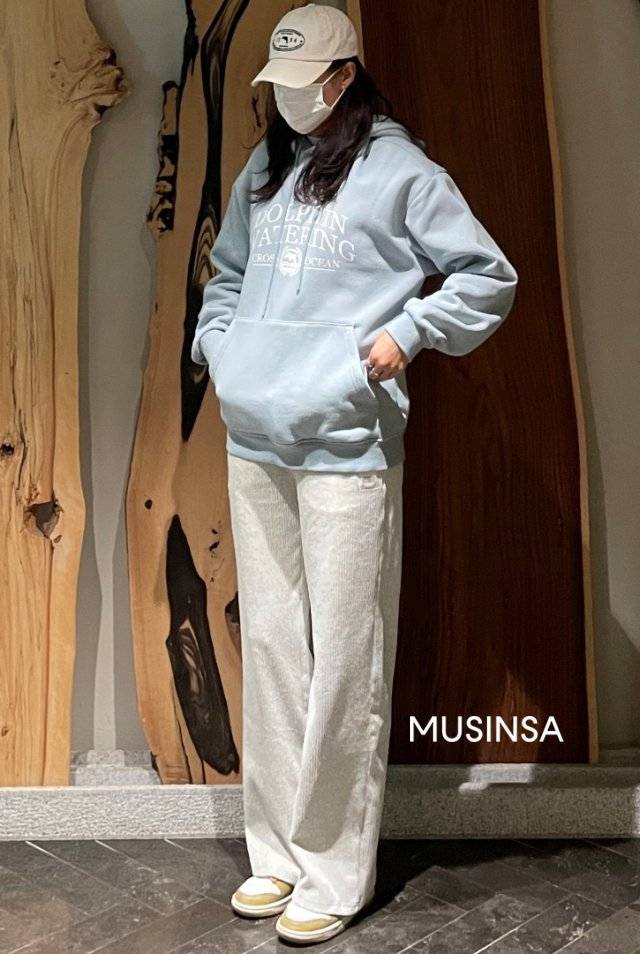Cap: (247, 1, 364, 83)
Hoodie: (195, 105, 524, 477)
Mask: (270, 79, 354, 128)
Pants: (214, 436, 401, 912)
Shoes: (222, 859, 381, 946)
